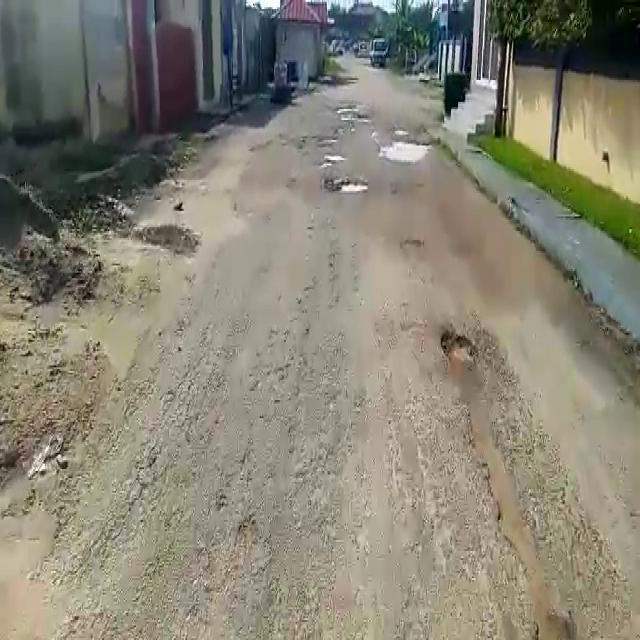pothole: (439, 327, 477, 368), (379, 139, 434, 167), (331, 178, 373, 196)
